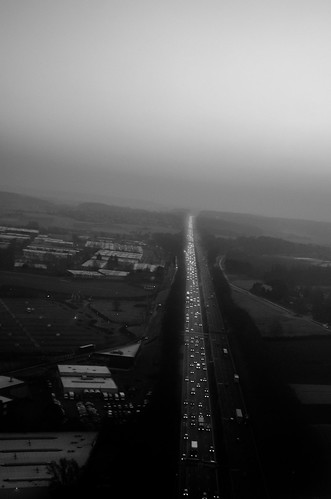road: (175, 219, 220, 499)
sky: (1, 1, 321, 205)
